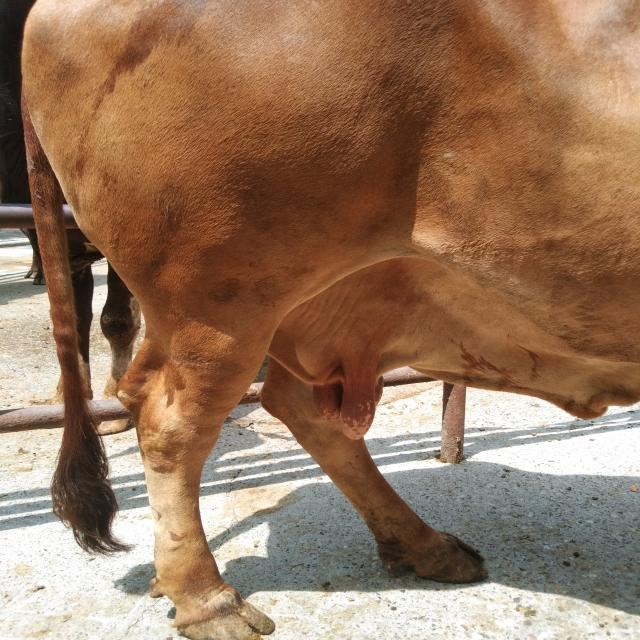Hoof: (171, 588, 276, 639)
